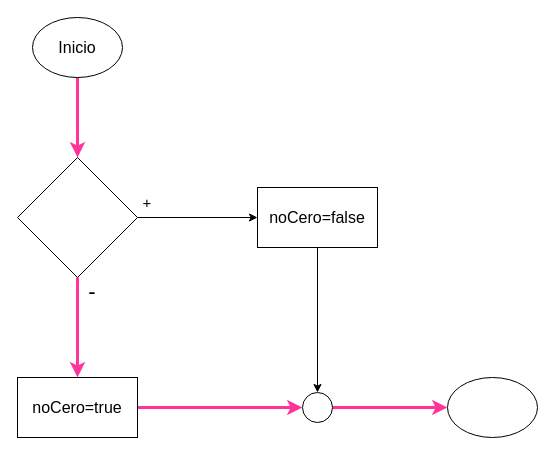
The diagram is 555 pixels wide and 455 high, and some of its shapes have lost their labels. Each missing label, with the centre of its shape:
Fin: point (492, 407)
Y==0: point (77, 217)
